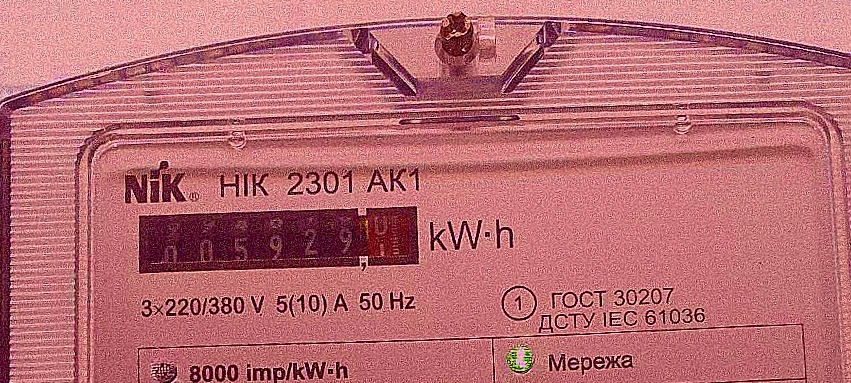0: (195, 235, 216, 264), (158, 239, 181, 263), (370, 212, 390, 236)
2: (299, 224, 320, 258)
5: (230, 233, 250, 262)
9: (263, 230, 286, 261), (335, 223, 356, 256), (162, 219, 181, 238)
screen: (129, 193, 428, 289)
